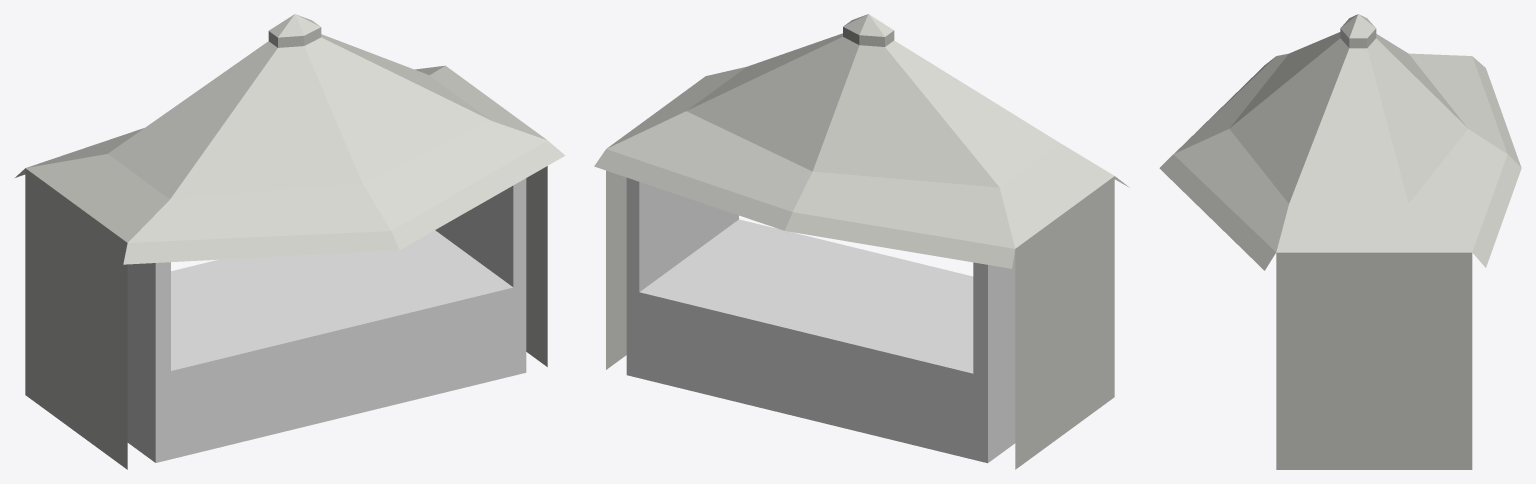
The model's file is Cabana3.fbx.
3 views of the same model, side by side, from view 1: azimuth 30°, elevation 25°; view 2: azimuth 150°, elevation 25°; view 3: azimuth 270°, elevation 25° (orthographic). The views are drawn at different scales.
Visible parts, largest first — view 1: Cabana, Balcao; view 2: Cabana, Balcao; view 3: Cabana.
Part boxes in pixels (x1=…): Cabana: x1=15, y1=14, x2=565, y2=469; Balcao: x1=127, y1=178, x2=526, y2=462; Cabana: x1=594, y1=14, x2=1129, y2=469; Balcao: x1=626, y1=177, x2=1015, y2=463; Cabana: x1=1159, y1=14, x2=1521, y2=469.
Bounding box in the file's own units: 448 × 361 × 332.
